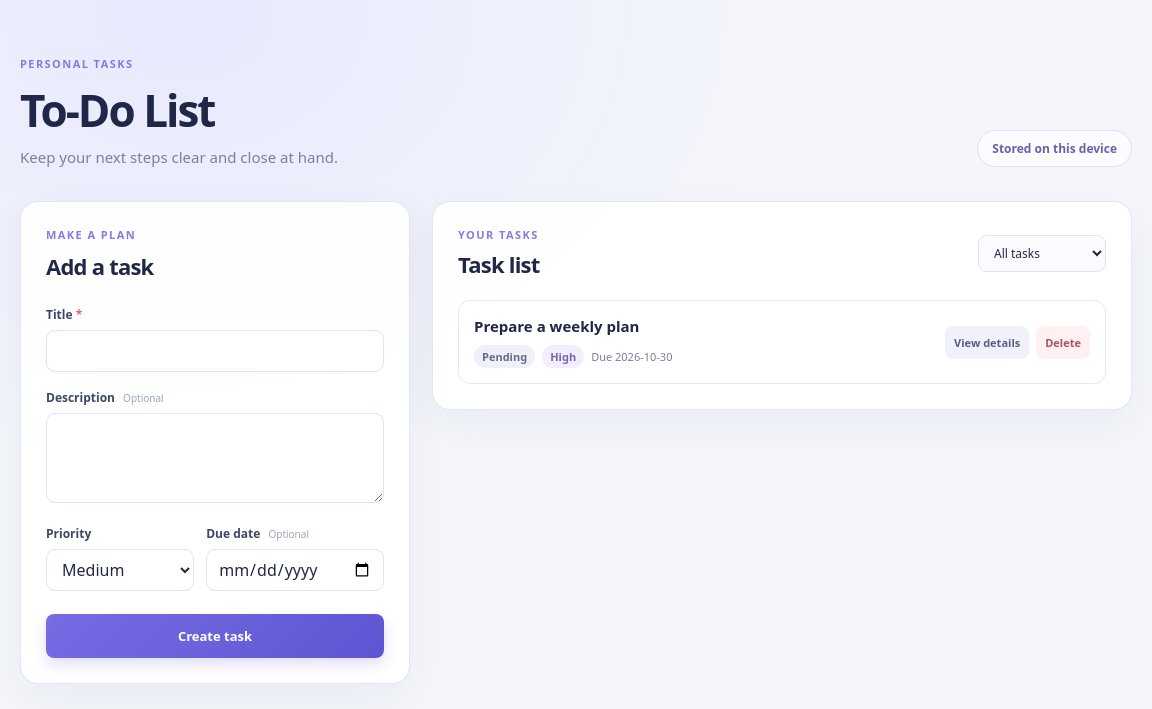
task list and creation UI (P-US-01, P-US-02, P-US-05) › deletes only after confirmation and refreshes the list
What coordinates should you click on to do the following:
click the button "Delete"
I would click on:
 (1063, 342)
Its box is [1036,326,1090,358].
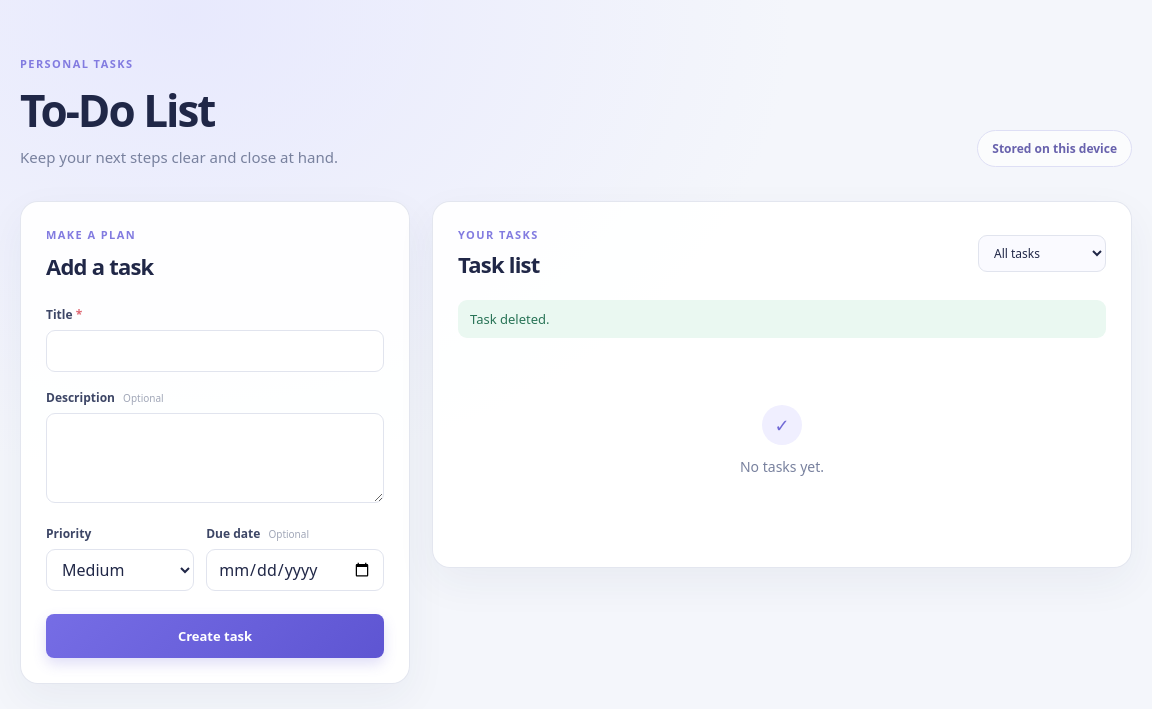
Expected: the text "Task deleted." is shown, [458,300,1106,338]
Expected: the text "No tasks yet." is shown, [740,456,824,476]
